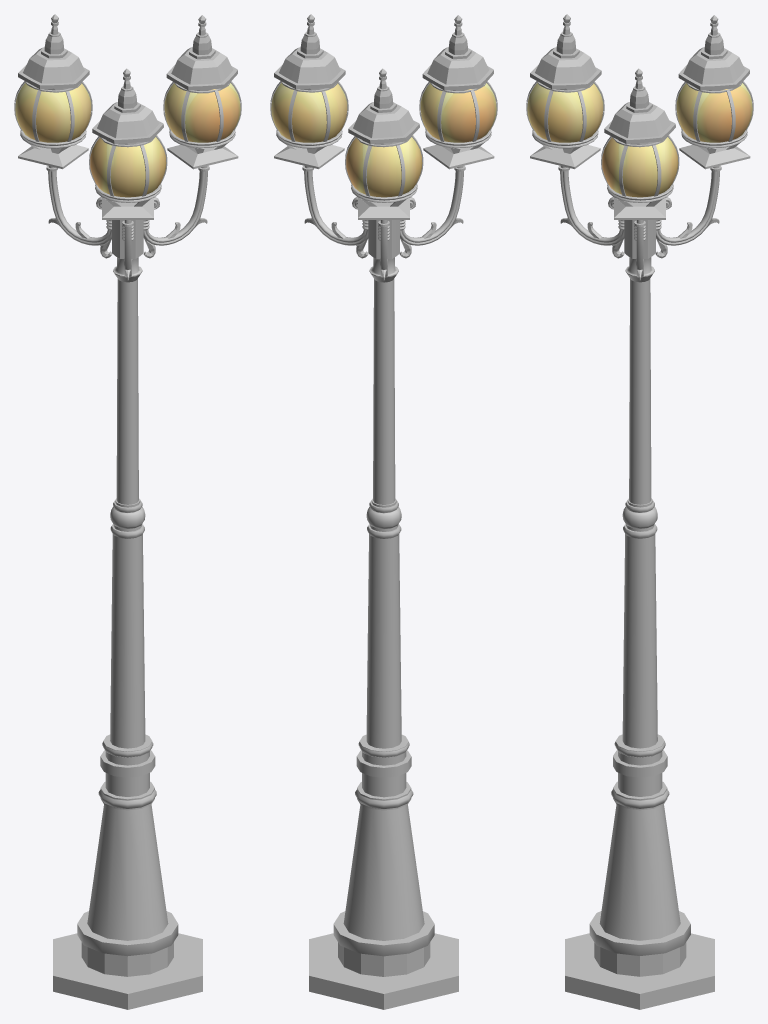
File: Lampara.obj
3 views of the same model, side by side, from view 1: azimuth 30°, elevation 25°; view 2: azimuth 150°, elevation 25°; view 3: azimuth 270°, elevation 25° (orthographic).
Parts seen in each view (by area): view 1: street_light_street_light1, street_light_street_light1_street_light_lamp_1, street_light_street_light1_street_light_street_light_lamp_2, street_light_street_light1_street_light_street_light_lamp_3, street_light_street_light1_street_light_street_light_lamp_2_stre, street_light_street_light1_street_light_street_light_lamp_3_stre, street_light_street_light1_street_light_lamp_1_street_light_stre; view 2: street_light_street_light1, street_light_street_light1_street_light_street_light_lamp_3, street_light_street_light1_street_light_lamp_1, street_light_street_light1_street_light_street_light_lamp_2, street_light_street_light1_street_light_lamp_1_street_light_stre, street_light_street_light1_street_light_street_light_lamp_2_stre, street_light_street_light1_street_light_street_light_lamp_3_stre; view 3: street_light_street_light1, street_light_street_light1_street_light_street_light_lamp_2, street_light_street_light1_street_light_street_light_lamp_3, street_light_street_light1_street_light_lamp_1, street_light_street_light1_street_light_street_light_lamp_3_stre, street_light_street_light1_street_light_lamp_1_street_light_stre, street_light_street_light1_street_light_street_light_lamp_2_stre.
Boxes of the visible parts, left/top/right/bottom form: street_light_street_light1: left=53, top=220, right=202, bottom=1009; street_light_street_light1_street_light_lamp_1: left=143, top=15, right=241, bottom=258; street_light_street_light1_street_light_street_light_lamp_2: left=14, top=14, right=112, bottom=258; street_light_street_light1_street_light_street_light_lamp_3: left=89, top=68, right=167, bottom=280; street_light_street_light1_street_light_street_light_lamp_2_stre: left=15, top=83, right=91, bottom=142; street_light_street_light1_street_light_street_light_lamp_3_stre: left=90, top=135, right=166, bottom=197; street_light_street_light1_street_light_lamp_1_street_light_stre: left=164, top=83, right=240, bottom=142; street_light_street_light1: left=309, top=220, right=458, bottom=1009; street_light_street_light1_street_light_street_light_lamp_3: left=399, top=15, right=497, bottom=258; street_light_street_light1_street_light_lamp_1: left=270, top=14, right=368, bottom=258; street_light_street_light1_street_light_street_light_lamp_2: left=345, top=68, right=423, bottom=280; street_light_street_light1_street_light_lamp_1_street_light_stre: left=271, top=83, right=347, bottom=142; street_light_street_light1_street_light_street_light_lamp_2_stre: left=346, top=135, right=422, bottom=197; street_light_street_light1_street_light_street_light_lamp_3_stre: left=420, top=83, right=496, bottom=142; street_light_street_light1: left=565, top=220, right=714, bottom=1009; street_light_street_light1_street_light_street_light_lamp_2: left=655, top=15, right=753, bottom=258; street_light_street_light1_street_light_street_light_lamp_3: left=526, top=14, right=624, bottom=258; street_light_street_light1_street_light_lamp_1: left=601, top=68, right=679, bottom=280; street_light_street_light1_street_light_street_light_lamp_3_stre: left=527, top=83, right=603, bottom=142; street_light_street_light1_street_light_lamp_1_street_light_stre: left=602, top=135, right=678, bottom=197; street_light_street_light1_street_light_street_light_lamp_2_stre: left=676, top=83, right=752, bottom=142.
Size of the model in its own units: 4.52 by 22.27 by 4.88.
